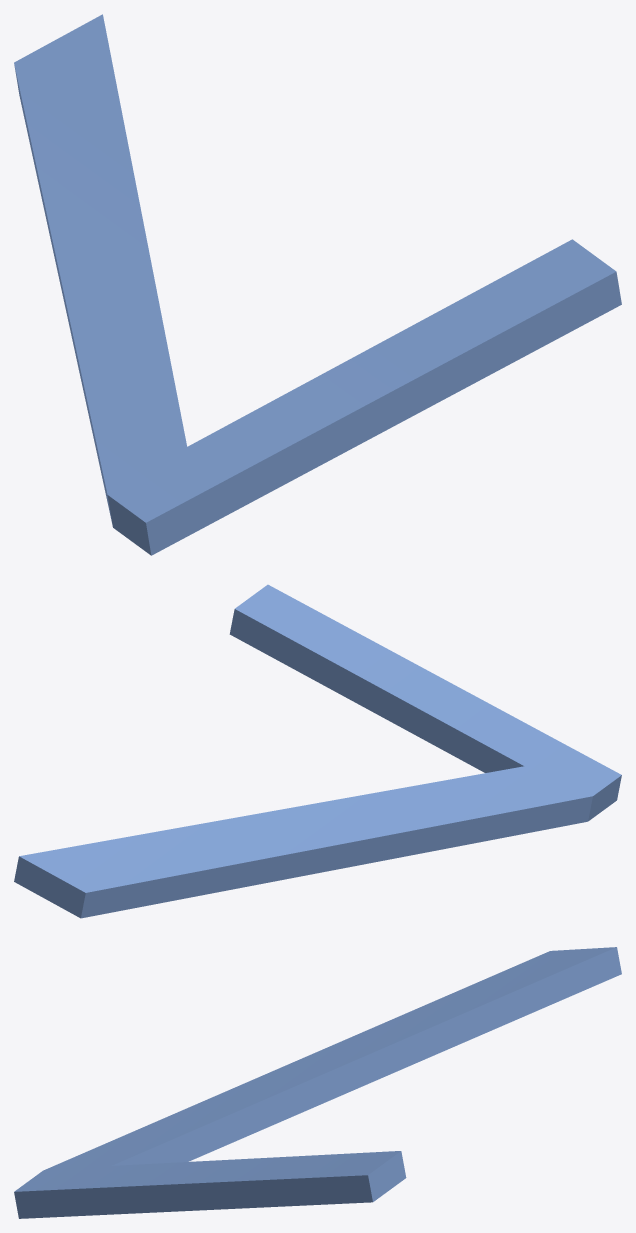
The model's file is New_Number_7.gltf.
3 views of the same model, one above another, from view 1: azimuth 30°, elevation 25°; view 2: azimuth 150°, elevation 25°; view 3: azimuth 330°, elevation 25° (orthographic). The views are drawn at different scales.
Visible parts, largest first — view 1: Part 286; view 2: Part 286; view 3: Part 286.
Part boxes in pixels (box(x1,y1,x2,y2)): Part 286: box(14, 14, 621, 555); Part 286: box(14, 584, 621, 918); Part 286: box(14, 947, 621, 1218).
Bounding box in the file's own units: 0.00359 × 0.00124 × 0.00551.
